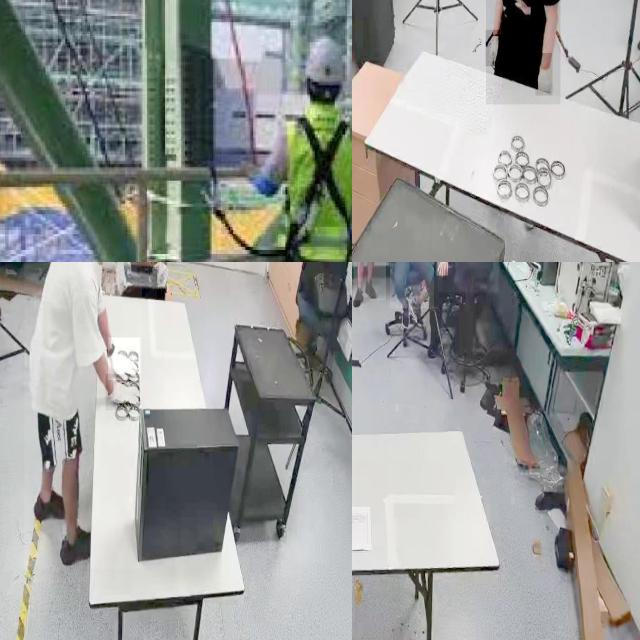Harness: (287, 106, 352, 262)
face_mask: (95, 262, 136, 287)
hand_glove: (108, 338, 140, 380), (106, 374, 140, 411), (535, 53, 553, 96), (486, 30, 500, 67)
hand_noglove: (436, 262, 448, 276)
person: (24, 262, 142, 569), (486, 0, 561, 105), (389, 262, 434, 309), (438, 262, 499, 293), (353, 262, 386, 301)
shoes: (59, 523, 100, 569), (32, 488, 69, 522), (409, 295, 427, 329), (364, 277, 380, 300), (352, 283, 364, 312), (400, 296, 410, 328)
